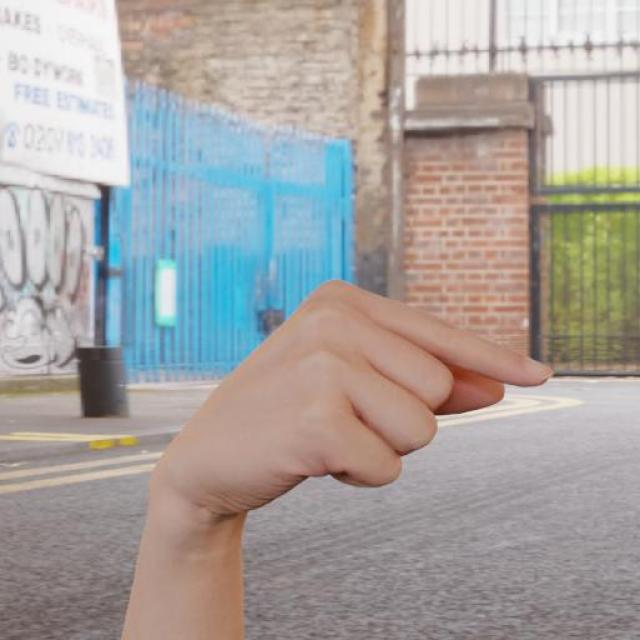G: (158, 278, 552, 521)
